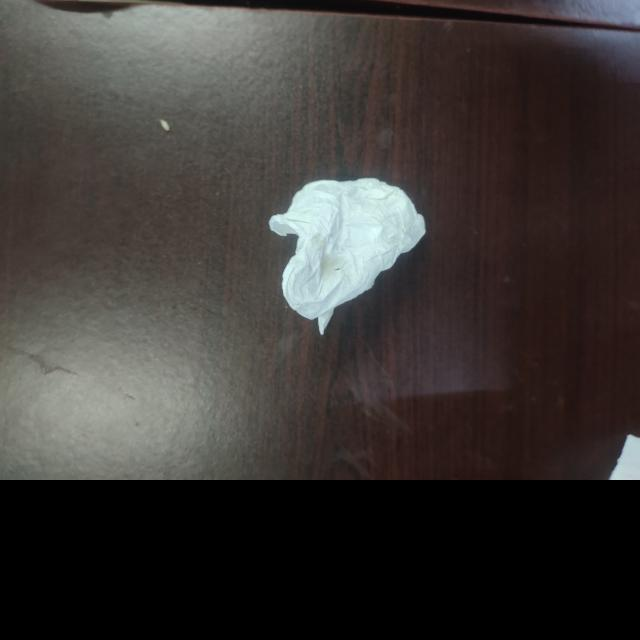kitchen paper: (264, 174, 430, 340)
